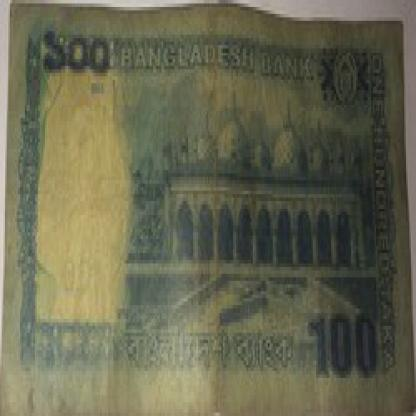one hundred taka: (306, 301, 379, 384), (36, 24, 116, 80)
